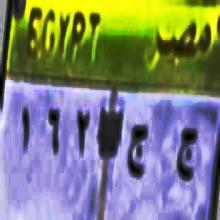1: (14, 106, 35, 163)
2: (72, 105, 95, 160)
6: (47, 98, 61, 158)
jeem: (170, 122, 199, 191), (125, 121, 149, 182)
